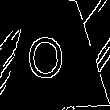O_N: (34, 28, 73, 81)
